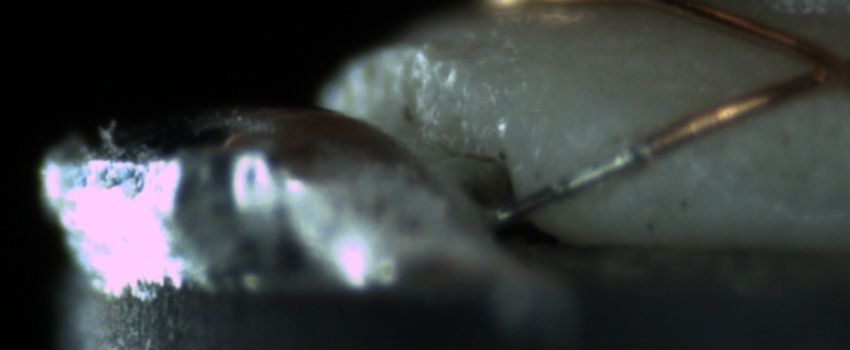CL: (777, 31, 847, 94)
TS: (490, 139, 649, 222)
TTCW: (490, 110, 700, 226)
